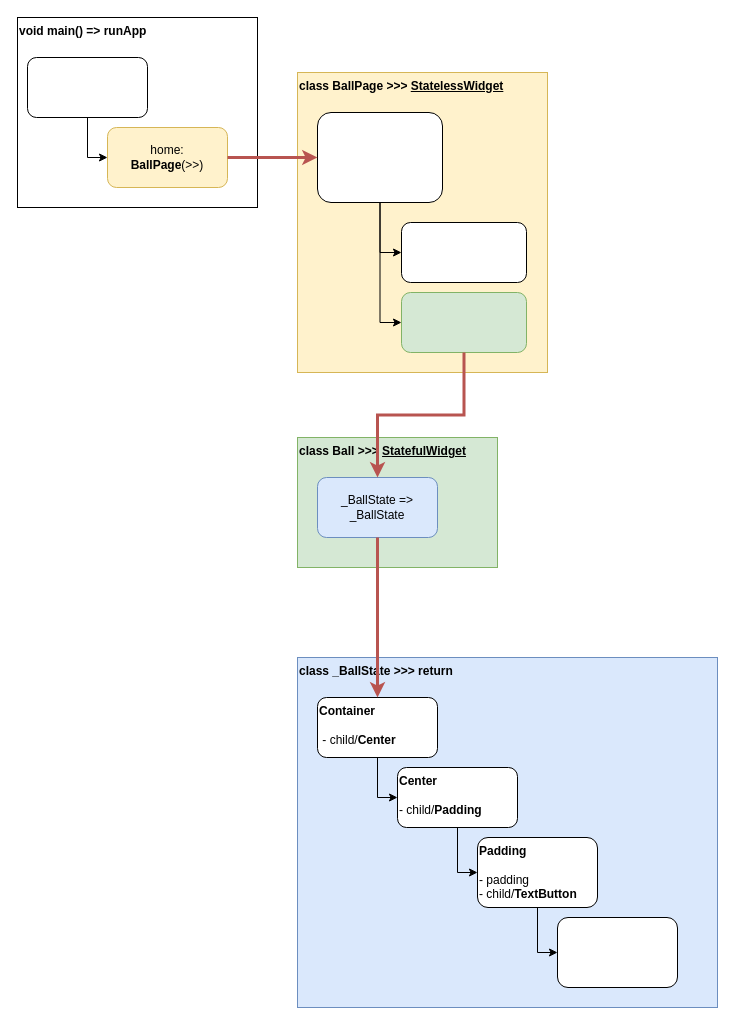
The diagram is 735 pixels wide and 1025 high, and some of its shapes have lost their labels. The shapes that lost their labels are listed below. From the top down, each one's centre as x and y in pixels, then its label:
At (87,87): "MaterialApp - home".
At (379,157): "Scaffold - backgroundColor - appBar >> - body".
At (463,252): "AppBar - backgroundColor - title".
At (463,322): "body: Ball (>>)".
At (617,952): "TextButton - onPressed - child/Image.asset".
